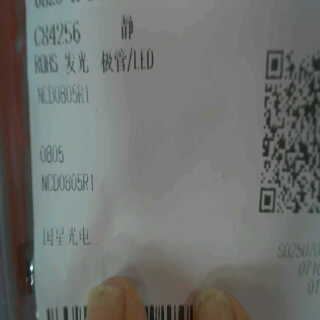LED: (59, 49, 158, 74)
